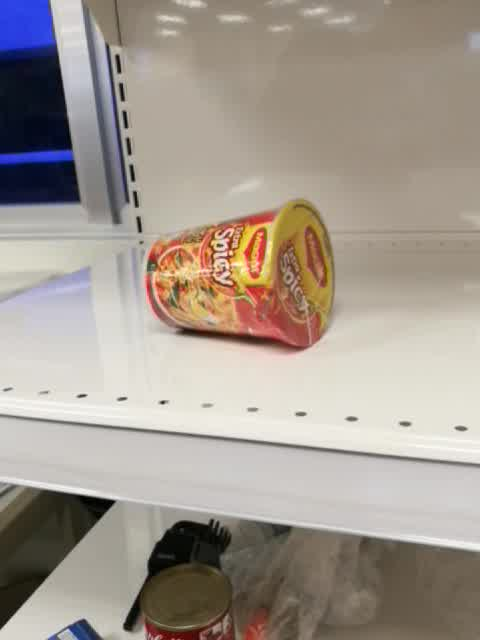maggi: (144, 194, 337, 350)
